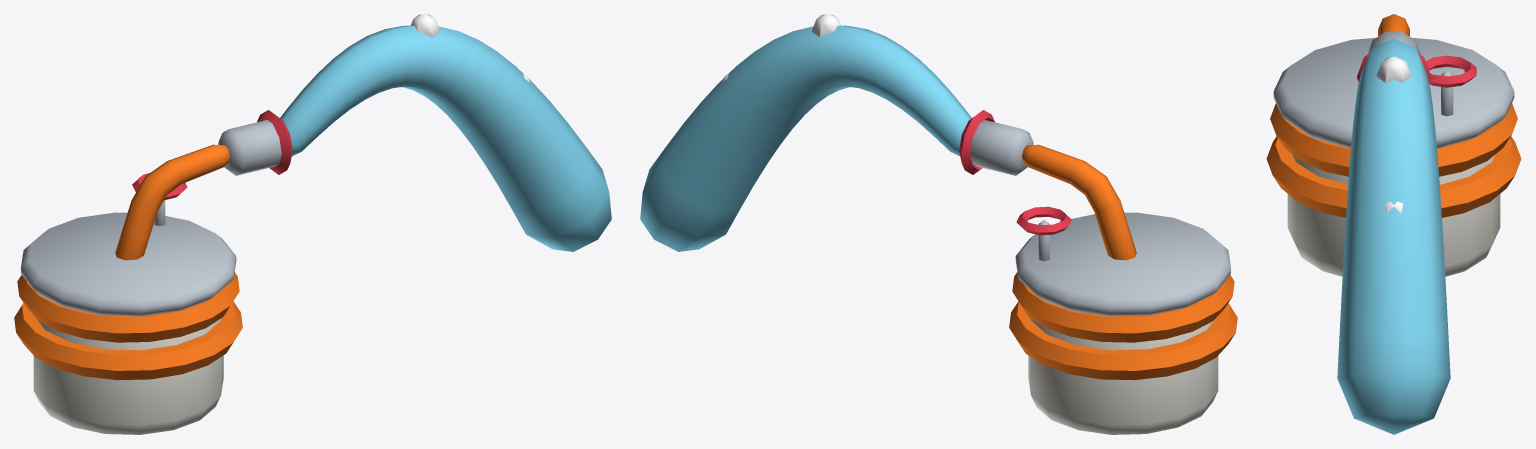
Rendered from H34_HoseJet.fbx.
3 renders of one model, left to right at view 1: azimuth 30°, elevation 25°; view 2: azimuth 150°, elevation 25°; view 3: azimuth 270°, elevation 25°, orthographic. The views are drawn at different scales.
Parts seen in each view (by area): view 1: Static, Stream, Nozzle; view 2: Static, Stream, Nozzle; view 3: Stream, Static, Nozzle.
Part boxes in pixels (<box>): Static: <box>14,173,242,434</box>; Stream: <box>280,14,611,251</box>; Nozzle: <box>115,110,292,260</box>; Static: <box>1009,206,1237,434</box>; Stream: <box>640,14,971,251</box>; Nozzle: <box>959,110,1136,260</box>; Stream: <box>1337,39,1450,434</box>; Static: <box>1266,37,1521,276</box>; Nozzle: <box>1357,14,1430,81</box>.
Bounding box in the file's own units: 4.18 × 2.18 × 1.44.
